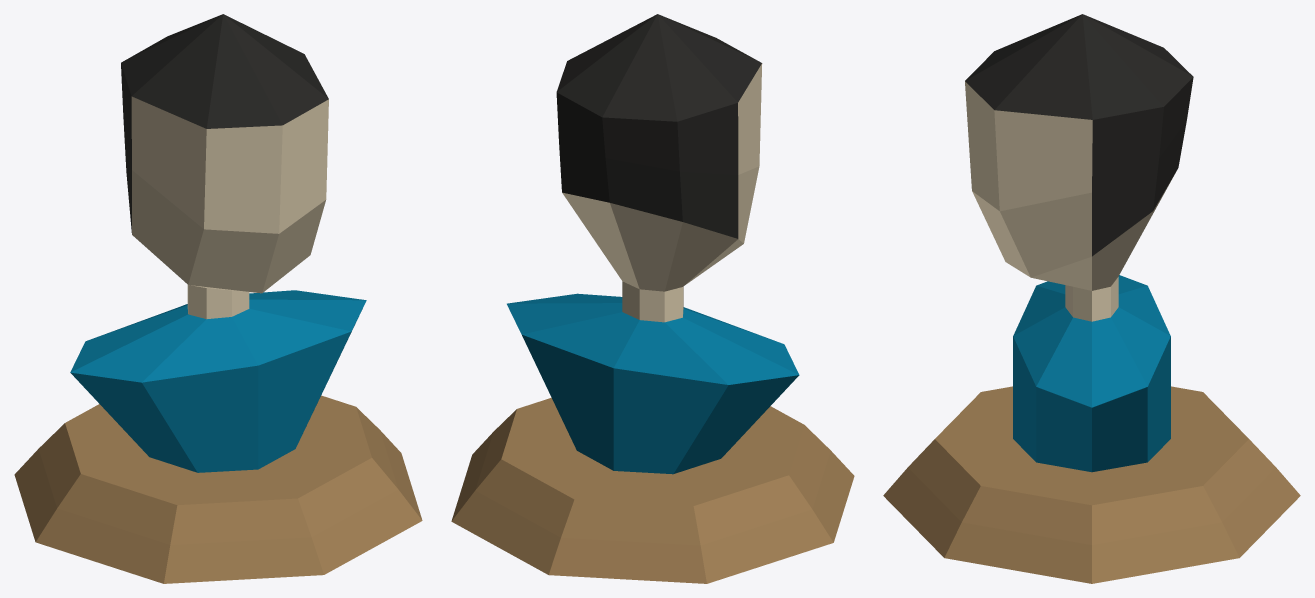
The model's file is Citizen.FBX.
3 renders of one model, left to right at view 1: azimuth 30°, elevation 25°; view 2: azimuth 150°, elevation 25°; view 3: azimuth 270°, elevation 25°, orthographic.
Visible parts, largest first — view 1: Citizen; view 2: Citizen; view 3: Citizen.
Part boxes in pixels (x1,y1,x2,y2): Citizen: (14, 14, 422, 583); Citizen: (451, 14, 854, 583); Citizen: (883, 14, 1300, 583).
Size of the model in its own units: 67.29 by 85.61 by 67.29.
